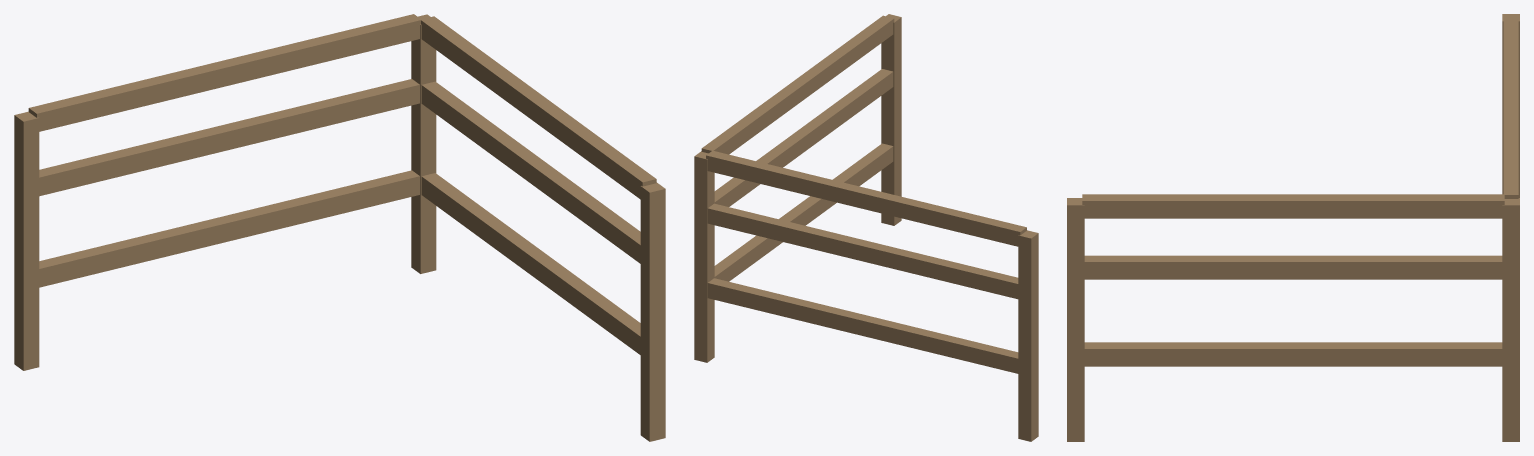
Rendered from zoo-and-safari-park-builder-timber-rail-corner-08423731__21445.glb.
3 renders of one model, left to right at view 1: azimuth 30°, elevation 25°; view 2: azimuth 150°, elevation 25°; view 3: azimuth 270°, elevation 25°, orthographic. The views are drawn at different scales.
Visible parts, largest first — view 1: timber-rail-corner; view 2: timber-rail-corner; view 3: timber-rail-corner.
Part boxes in pixels (x1,y1,x2,y2): timber-rail-corner: [14, 14, 665, 441]; timber-rail-corner: [694, 14, 1038, 441]; timber-rail-corner: [1067, 14, 1519, 441].
Size of the model in its own units: 2.08 by 1.22 by 2.08.
